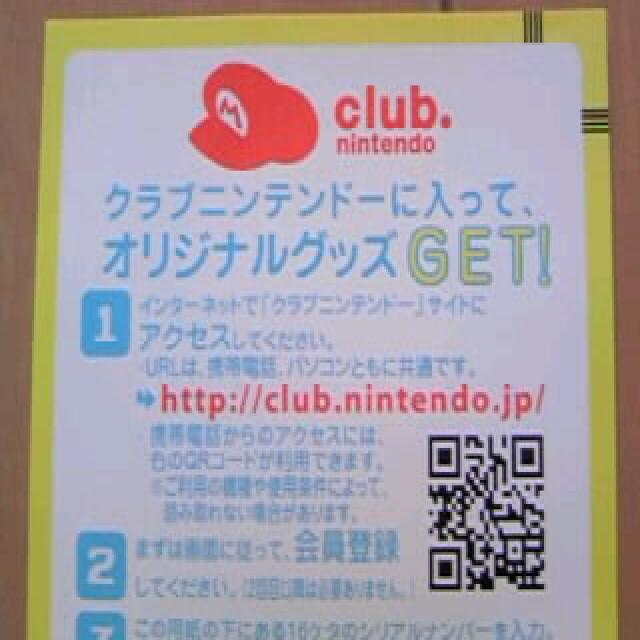qr-code: (428, 434, 542, 590)
